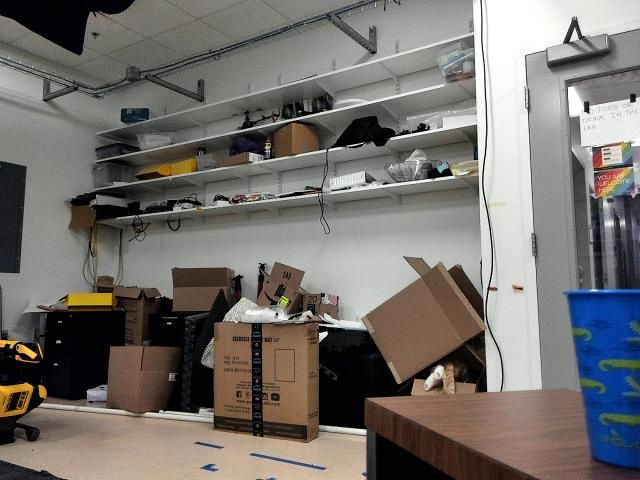water_cup: (560, 284, 640, 470)
